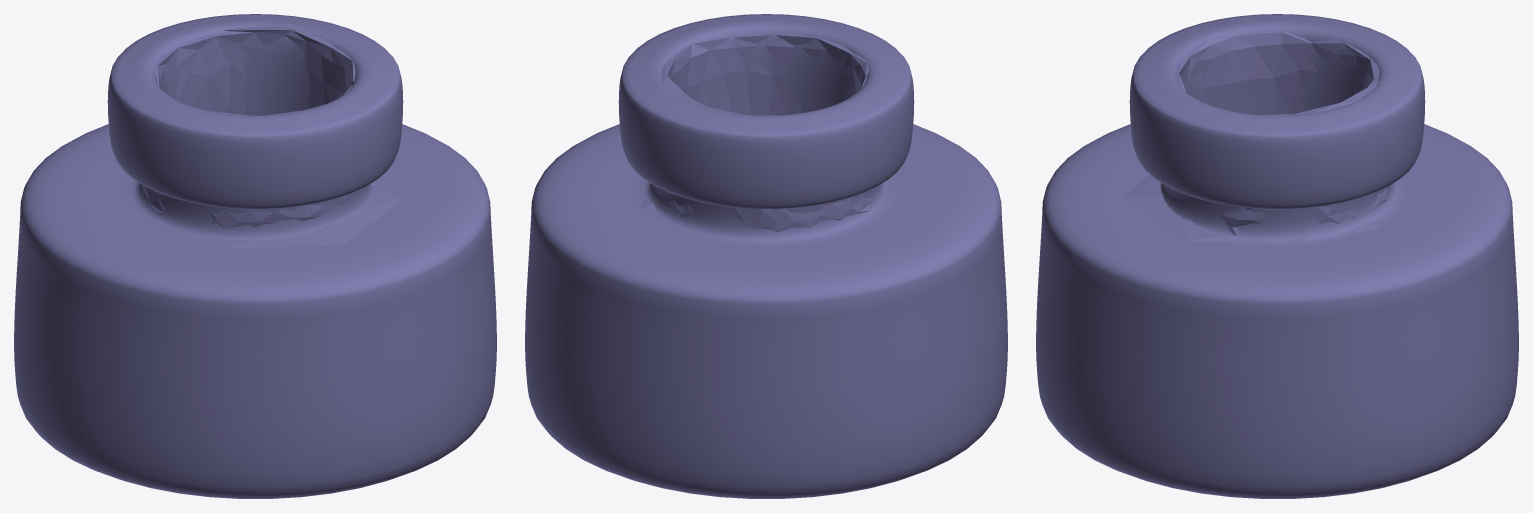
File: bottleTest.fbx
3 renders of one model, left to right at view 1: azimuth 30°, elevation 25°; view 2: azimuth 150°, elevation 25°; view 3: azimuth 270°, elevation 25°, orthographic.
Parts seen in each view (by area): view 1: Bottle, BottleLowpoly; view 2: Bottle, BottleLowpoly; view 3: Bottle, BottleLowpoly.
Part boxes in pixels (left/top/right/bottom): Bottle: left=14, top=14, right=496, bottom=498; BottleLowpoly: left=139, top=26, right=401, bottom=248; Bottle: left=525, top=14, right=1007, bottom=498; BottleLowpoly: left=640, top=33, right=896, bottom=232; Bottle: left=1036, top=14, right=1518, bottom=498; BottleLowpoly: left=1124, top=31, right=1388, bottom=246.
Bounding box in the file's own units: 204 × 162 × 204.
